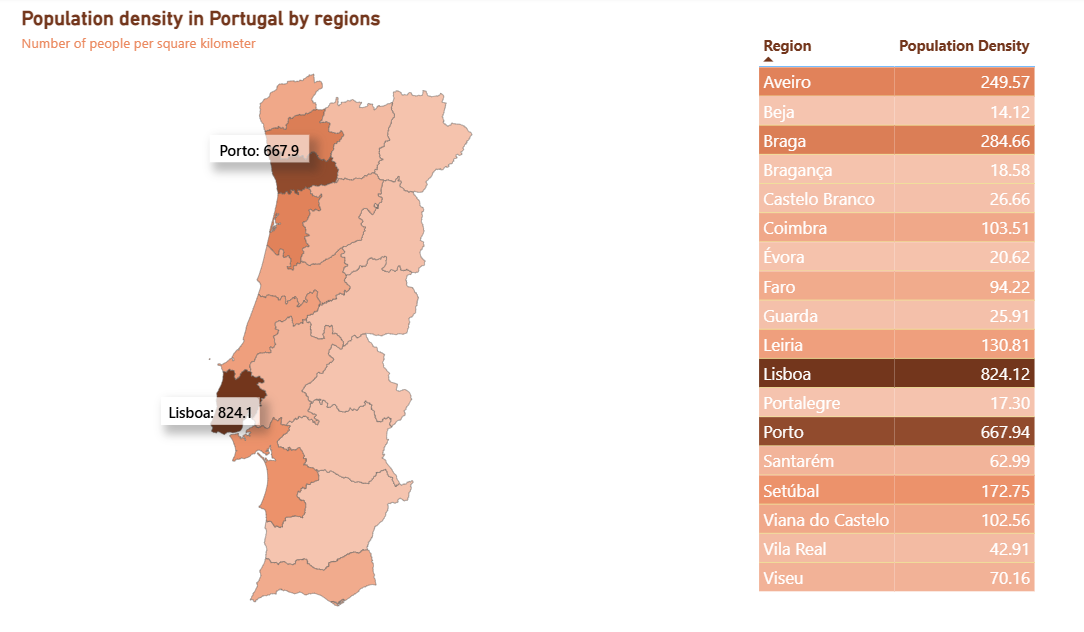

The dashboard page shown, as its layout file describes it:
{"tool":"powerbi","page":{"name":"Page 1","canvas":[1280,720],"ordinal":0},"visuals":[{"type":"shapeMap","title":"Population density in Portugal by regions","fields":{"Value":["Sum(portugal.density)"],"Category":["portugal.region"]},"box":[54.9,12.3,699.8,708.1],"z":1},{"type":"tableEx","fields":{"Values":["portugal.region","Sum(portugal.density)"]},"box":[863.1,34.3,399.3,644.9],"z":2},{"type":"cardVisual","fields":{"Data":["_calc.Porto_lbl"]},"box":[266.2,152.3,109.8,30.2],"z":3},{"type":"cardVisual","fields":{"Data":["_calc.Lisboa_lbl"]},"box":[212.7,440.5,108.4,30.2],"z":4}]}

Visuals, with their boxes on the page's 1280x720 design canvas (x1, y1, x2, y2). These are canvas units, not pixel positions in the 1084x632 screenshot, which may show the page scaled, cropped or inside an application window:
"Population density in Portugal by regions" shapeMap: locate(55, 12, 755, 720)
tableEx - portugal.region x Sum(portugal.density): locate(863, 34, 1262, 679)
cardVisual - _calc.Porto_lbl: locate(266, 152, 376, 182)
cardVisual - _calc.Lisboa_lbl: locate(213, 440, 321, 471)
